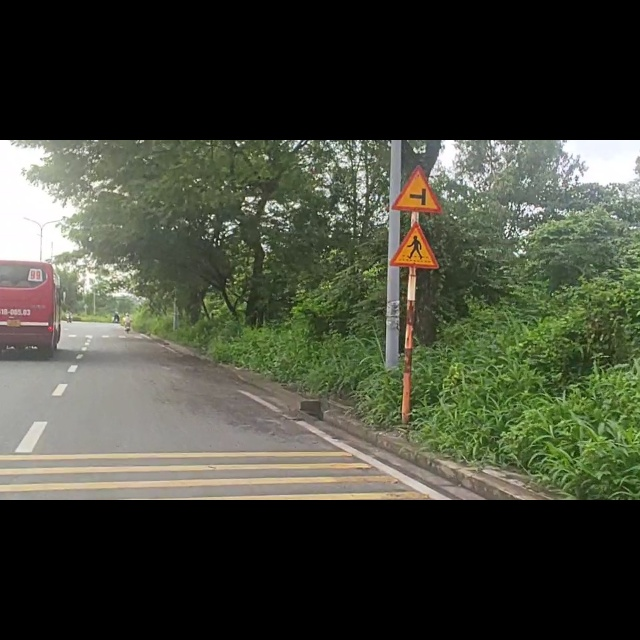bien_nguy_hiem: (393, 38, 445, 136), (389, 139, 443, 231)
